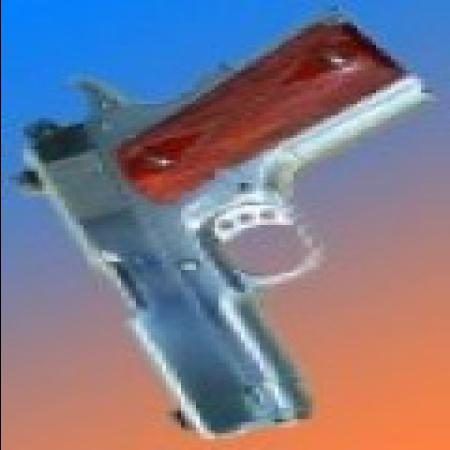Pistol: (19, 8, 409, 430)
